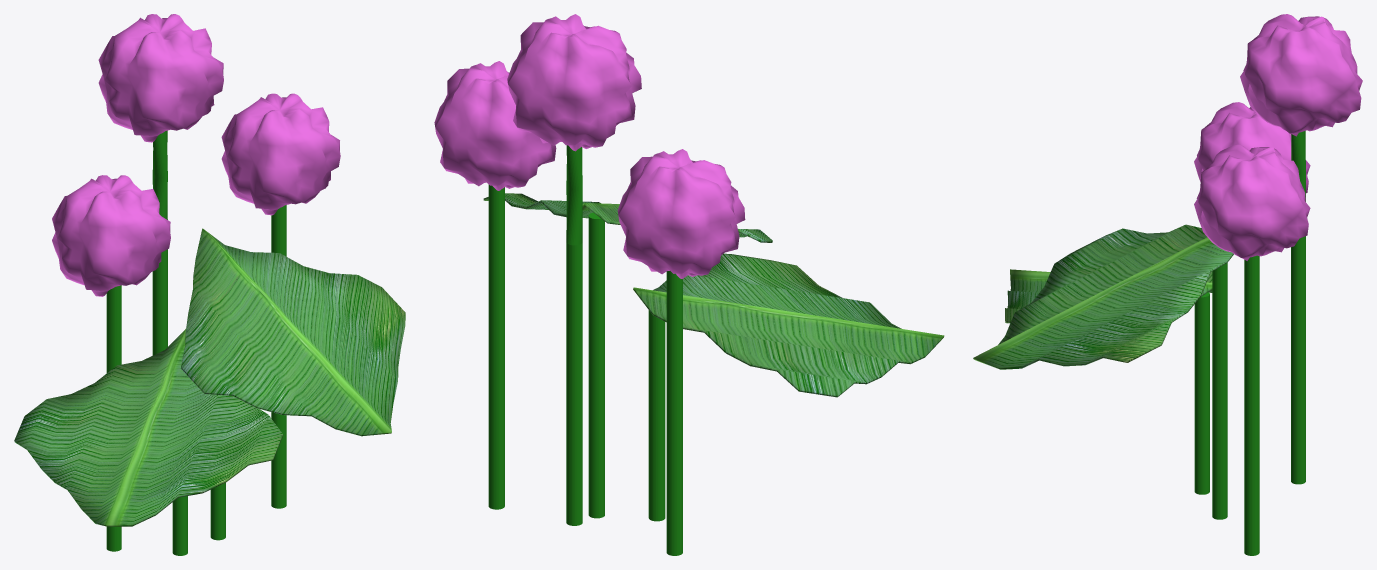
Rendered from plant.fbx.
The picture shows the model from 3 angles, left to right: view 1: azimuth 30°, elevation 25°; view 2: azimuth 150°, elevation 25°; view 3: azimuth 270°, elevation 25°; orthographic projection. The views are drawn at different scales.
Parts seen in each view (by area): view 1: Plane.001, Plane, Sphere.002, Sphere, Sphere.001, Cylinder.003, Cylinder.002, Cylinder.004, Cylinder, Cylinder.001; view 2: Plane, Sphere.002, Sphere, Sphere.001, Cylinder.003, Cylinder.002, Cylinder.001, Cylinder.004, Cylinder, Plane.001; view 3: Plane.001, Sphere.002, Sphere.001, Cylinder.002, Cylinder.003, Cylinder.001, Sphere, Cylinder, Plane.
Part boxes in pixels (x1,y1,x2,y2): Plane.001: (180, 228, 405, 436); Plane: (14, 329, 282, 526); Sphere.002: (98, 14, 223, 142); Sphere: (52, 175, 170, 296); Sphere.001: (221, 93, 340, 215); Cylinder.003: (152, 130, 167, 355); Cylinder.002: (271, 205, 286, 508); Cylinder.004: (106, 285, 121, 551); Cylinder: (172, 496, 187, 555); Cylinder.001: (210, 482, 225, 540); Plane: (633, 253, 944, 397); Sphere.002: (507, 14, 641, 151); Sphere: (617, 149, 745, 278); Sphere.001: (434, 61, 556, 190); Cylinder.003: (566, 145, 582, 525); Cylinder.002: (488, 184, 504, 509); Cylinder.001: (588, 212, 604, 518); Cylinder.004: (666, 271, 682, 555); Cylinder: (648, 310, 665, 521); Plane.001: (483, 193, 772, 242); Plane.001: (973, 224, 1233, 369); Sphere.002: (1240, 14, 1362, 136); Sphere.001: (1194, 144, 1310, 260); Cylinder.002: (1244, 255, 1259, 555); Cylinder.003: (1291, 131, 1305, 484); Cylinder.001: (1212, 263, 1227, 519); Sphere: (1194, 102, 1310, 193); Cylinder: (1194, 292, 1209, 494); Plane: (1005, 269, 1212, 323).
Size of the model in its own units: 378 by 496 by 358.
